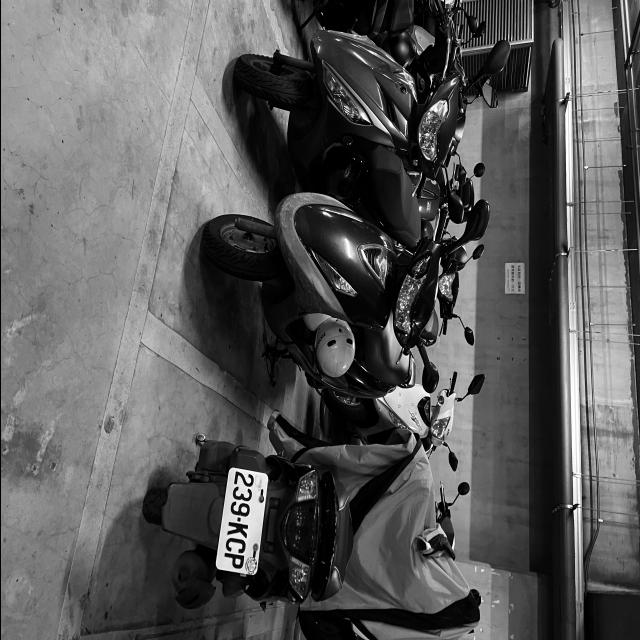-: (236, 517, 241, 523)
2: (232, 471, 255, 489)
3: (231, 485, 252, 503)
9: (229, 500, 250, 519)
C: (223, 536, 247, 556)
K: (225, 521, 248, 540)
P: (222, 552, 246, 571)
plate: (215, 468, 265, 575)
